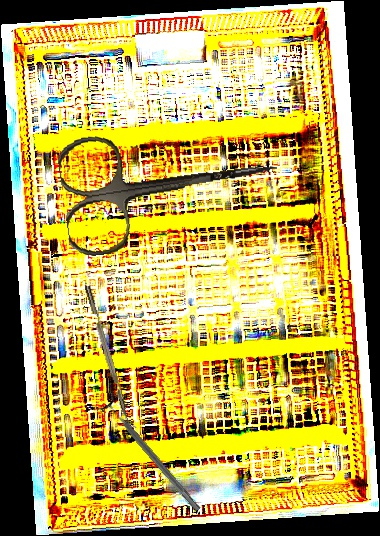Chopper: (84, 283, 139, 431)
Fixation Ring: (95, 393, 207, 518)
Iris Scissors: (55, 111, 286, 259)
